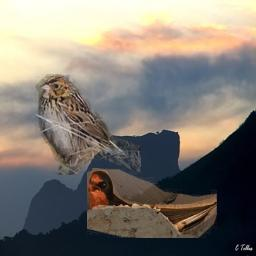Sparrow: (35, 74, 141, 175)
Swallow: (87, 168, 217, 238)
